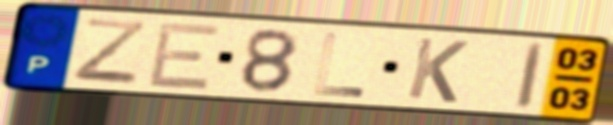8: (240, 26, 300, 95)
E: (144, 21, 225, 92)
I: (512, 40, 548, 112)
K: (403, 35, 472, 106)
L: (310, 31, 368, 100)
Z: (69, 16, 150, 87)
